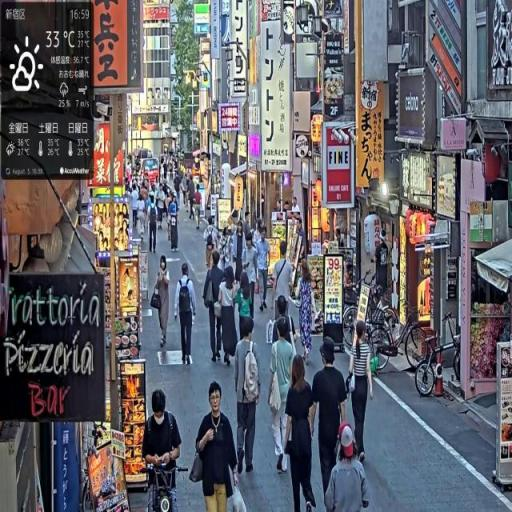person: (311, 339, 350, 510), (191, 380, 241, 512), (283, 351, 318, 512), (233, 315, 263, 476), (269, 319, 297, 478), (348, 320, 377, 467), (327, 421, 372, 512), (141, 388, 183, 484), (202, 247, 227, 366), (295, 257, 317, 371), (175, 261, 198, 370), (218, 264, 240, 370), (152, 255, 173, 352), (271, 244, 296, 323), (274, 295, 300, 356), (148, 196, 160, 255)
